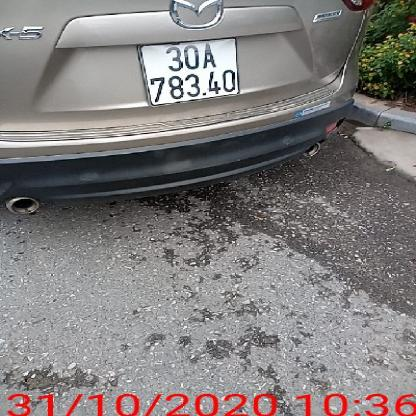biensoxe: (132, 38, 243, 107)
